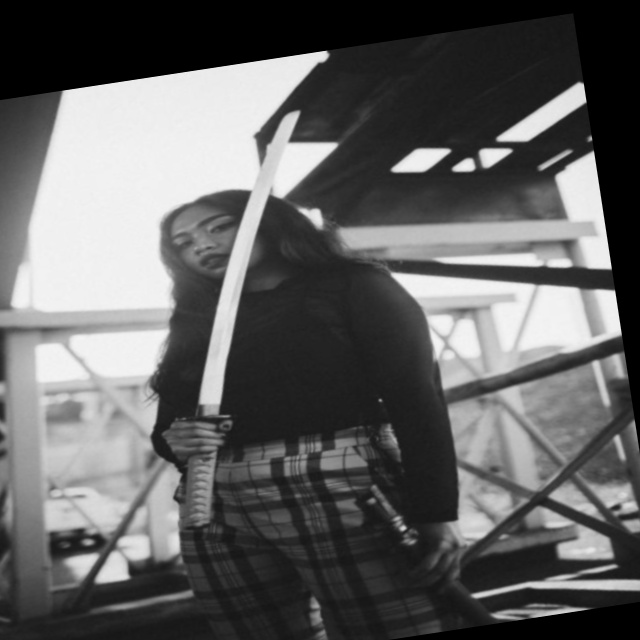Sharp-Object: (114, 101, 366, 524)
